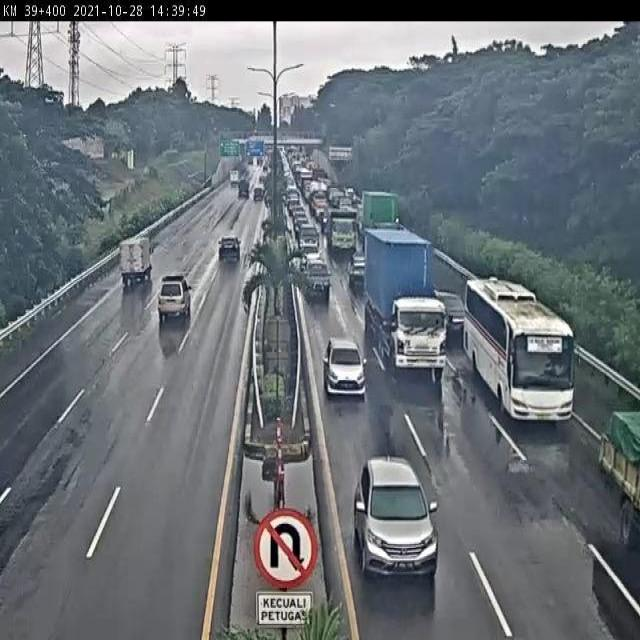big bus: (464, 278, 574, 422)
big truck: (365, 232, 443, 373)
car: (354, 455, 439, 577), (324, 341, 369, 400), (156, 274, 192, 322), (434, 283, 465, 333), (300, 256, 333, 299), (295, 222, 320, 254), (217, 231, 244, 260), (346, 249, 363, 287)
mid truck: (322, 207, 358, 252)
small truck: (120, 229, 155, 283)
